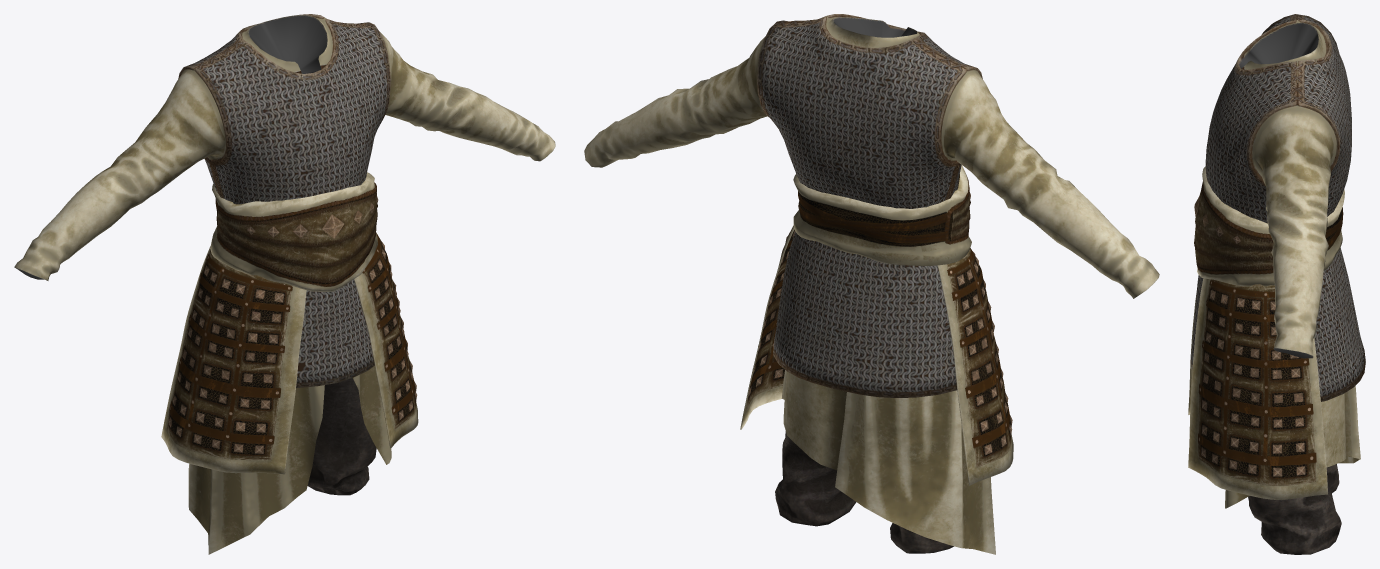
File: dunland_caerdh_chainmail_heavy_b.fbx
3 renders of one model, left to right at view 1: azimuth 30°, elevation 25°; view 2: azimuth 150°, elevation 25°; view 3: azimuth 270°, elevation 25°, orthographic. The views are drawn at different scales.
Visible parts, largest first — view 1: dunland_caerdh_chainmail_heavy_b, dunland_caerdh_chainmail_heavy_b.beltbo, dunland_caerdh_chainmail_heavy_b.beltb, dunland_caerdh_chainmail_heavy_b.skirt; view 2: dunland_caerdh_chainmail_heavy_b, dunland_caerdh_chainmail_heavy_b.skirt, dunland_caerdh_chainmail_heavy_b.beltbo, dunland_caerdh_chainmail_heavy_b.beltb; view 3: dunland_caerdh_chainmail_heavy_b, dunland_caerdh_chainmail_heavy_b.beltbo, dunland_caerdh_chainmail_heavy_b.beltb, dunland_caerdh_chainmail_heavy_b.skirt.
Boxes of the visible parts, bbox=[...] form: dunland_caerdh_chainmail_heavy_b: bbox=[14, 14, 555, 495]; dunland_caerdh_chainmail_heavy_b.beltbo: bbox=[161, 232, 418, 474]; dunland_caerdh_chainmail_heavy_b.beltb: bbox=[210, 172, 378, 291]; dunland_caerdh_chainmail_heavy_b.skirt: bbox=[188, 365, 391, 554]; dunland_caerdh_chainmail_heavy_b: bbox=[584, 14, 1159, 553]; dunland_caerdh_chainmail_heavy_b.skirt: bbox=[781, 370, 995, 554]; dunland_caerdh_chainmail_heavy_b.beltbo: bbox=[740, 225, 1013, 485]; dunland_caerdh_chainmail_heavy_b.beltb: bbox=[793, 165, 971, 265]; dunland_caerdh_chainmail_heavy_b: bbox=[1190, 14, 1365, 554]; dunland_caerdh_chainmail_heavy_b.beltbo: bbox=[1188, 278, 1327, 499]; dunland_caerdh_chainmail_heavy_b.beltb: bbox=[1194, 166, 1344, 286]; dunland_caerdh_chainmail_heavy_b.skirt: bbox=[1225, 386, 1360, 508].
Size of the model in its own units: 1.38 by 0.3917 by 1.21.
Materials: 4 (4 with a texture image).
